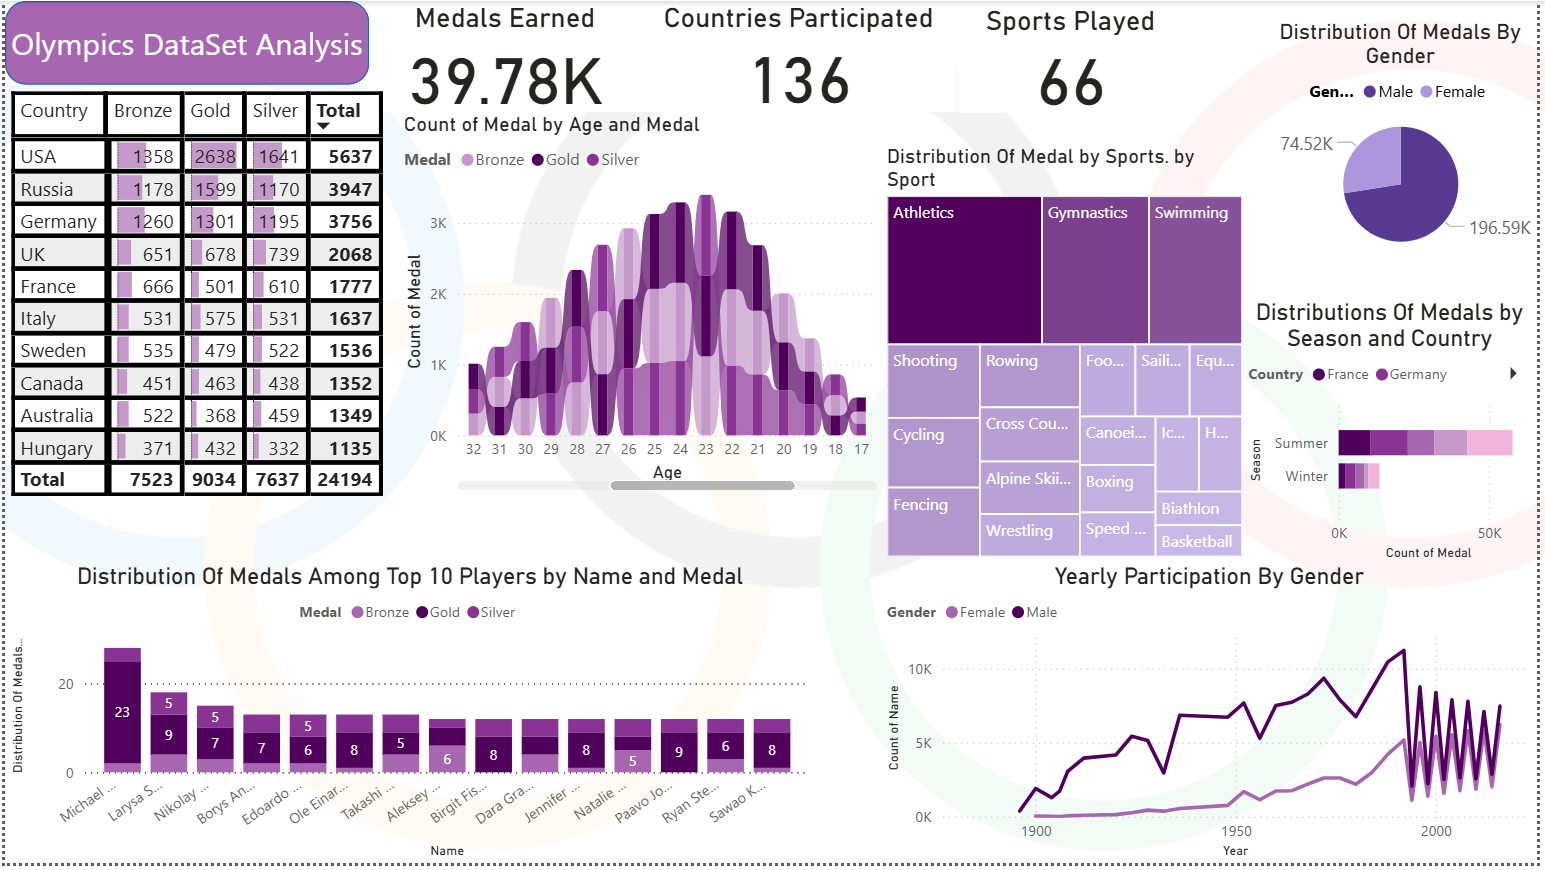

The dashboard page shown, as its layout file describes it:
{"tool":"powerbi","page":{"name":"Page 5","canvas":[1280,720],"ordinal":4},"visuals":[{"type":"shape","box":[0,0,304.3,69.9],"z":0},{"type":"lineChart","title":"Yearly Participation By Gender","fields":{"Category":["Olympics Final.Year"],"Series":["Olympics Final.Gender"],"Y":["CountNonNull(Olympics Final.Name)"]},"box":[731.3,468.7,548,251.3],"z":1000},{"type":"card","title":"Medals Earned","fields":{"Values":["CountNonNull(Olympics Final.Medal)"]},"box":[304.3,0,226.8,92.6],"z":2000},{"type":"card","title":"Countries Participated","fields":{"Values":["Count(Olympics Final.Country)"]},"box":[531.5,0,263.5,92.4],"z":3000},{"type":"card","title":"Sports Played","fields":{"Values":["Count(Olympics Final.Sport)"]},"box":[795.6,1.9,189,90.7],"z":4000},{"type":"ribbonChart","fields":{"Category":["Olympics Final.Age"],"Y":["CountNonNull(Olympics Final.Medal)"],"Series":["Olympics Final.Medal"]},"box":[304.3,92.6,404.4,321.3],"z":5000},{"type":"pivotTable","fields":{"Rows":["Olympics Final.Country"],"Columns":["Olympics Final.Medal"],"Values":["CountNonNull(Olympics Final.Medal)"]},"box":[0,69.7,327.1,427],"z":6000},{"type":"treemap","fields":{"Group":["Olympics Final.Sport"],"Values":["CountNonNull(Olympics Final.Medal)"]},"box":[731.3,119.1,306.1,349.6],"z":7000},{"type":"columnChart","fields":{"Category":["Olympics Final.Name"],"Y":["CountNonNull(Olympics Final.Medal)"],"Series":["Olympics Final.Medal"]},"box":[0,468.7,676.5,251.3],"z":8000},{"type":"pieChart","title":"Distribution Of  Medals By Gender","fields":{"Category":["Olympics Final.Gender"],"Y":["CountNonNull(Olympics Final.Medal)"]},"box":[1050.7,15.1,228.7,206],"z":9000},{"type":"barChart","title":"Distributions Of Medals by Season and Country","fields":{"Category":["Olympics Final.Season"],"Y":["CountNonNull(Olympics Final.Medal)"],"Series":["Olympics Final.Country"]},"box":[1033.7,247.6,245.7,223],"z":10000}]}

Visuals, with their boxes in screenshot pixels (x1, y1, x2, y2), scaled from the page's 1280x720 canvas onto the 1545x871 screenshot:
shape: 0,0,367,85
"Yearly Participation By Gender" lineChart: 883,567,1544,870
"Medals Earned" card: 367,0,641,112
"Countries Participated" card: 642,0,960,112
"Sports Played" card: 960,2,1188,112
ribbonChart - Olympics Final.Age x CountNonNull(Olympics Final.Medal): 367,112,855,501
pivotTable - Olympics Final.Country x Olympics Final.Medal: 0,84,395,601
treemap - Olympics Final.Sport x CountNonNull(Olympics Final.Medal): 883,144,1252,567
columnChart - Olympics Final.Name x CountNonNull(Olympics Final.Medal): 0,567,817,870
"Distribution Of  Medals By Gender" pieChart: 1268,18,1544,267
"Distributions Of Medals by Season and Country" barChart: 1248,300,1544,569
